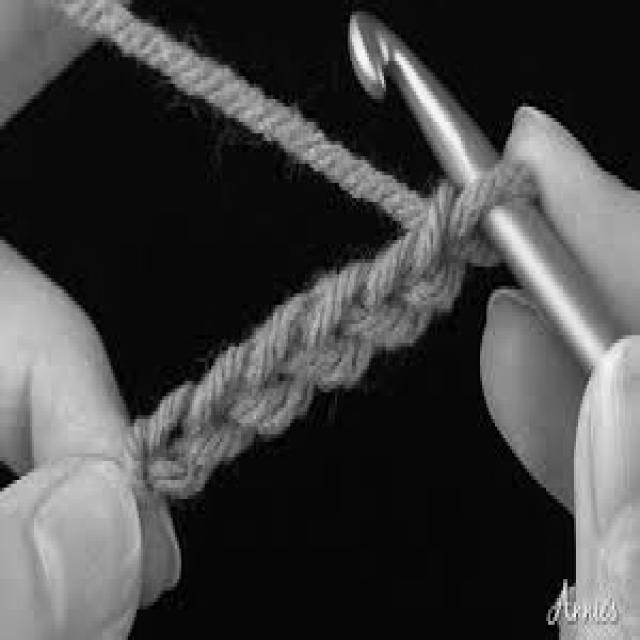ch: (215, 295, 311, 432), (168, 342, 254, 468), (284, 263, 373, 383), (346, 235, 432, 340), (390, 182, 462, 304), (145, 389, 210, 493), (122, 416, 162, 506)
